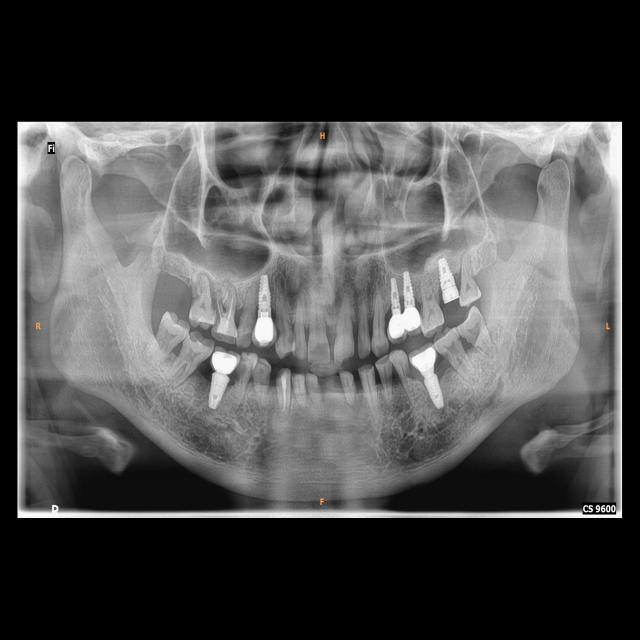dentin-curugu: (308, 340, 332, 364), (276, 316, 289, 342), (237, 357, 250, 380), (240, 330, 252, 350)
implant: (410, 350, 448, 409), (206, 346, 238, 411), (255, 272, 275, 352), (399, 269, 421, 333), (436, 258, 459, 312), (387, 276, 405, 340)
kanal-tedavisi: (215, 280, 237, 318), (278, 370, 291, 411)
